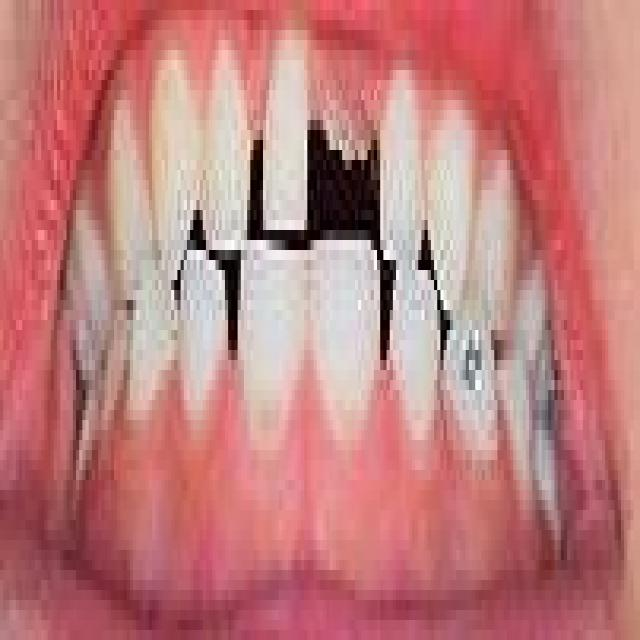caries: (318, 74, 375, 183)
